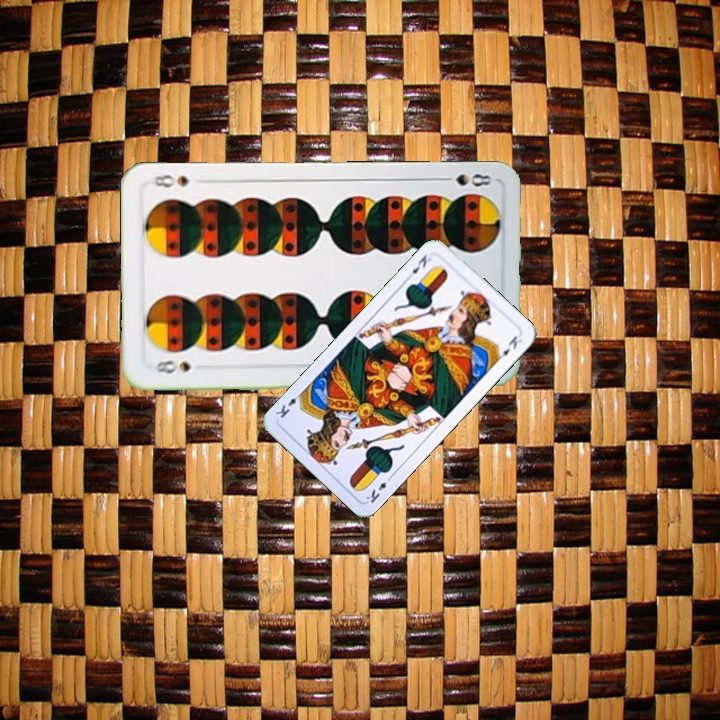EK: (362, 471, 395, 506), (402, 250, 434, 283)
S8: (435, 169, 493, 189), (152, 356, 193, 376)
